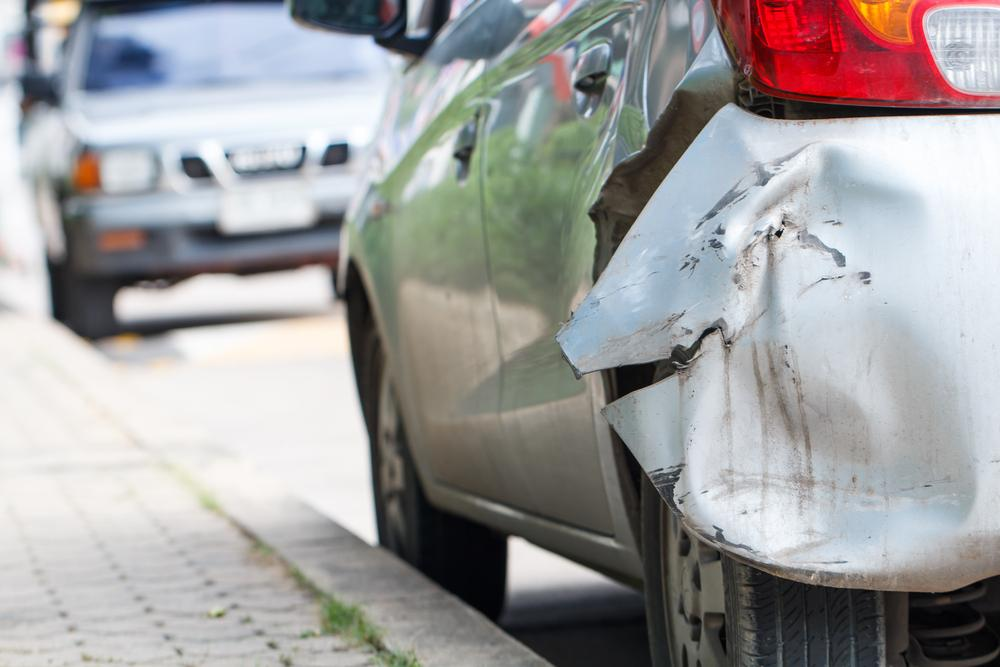crack: (578, 324, 722, 410)
dent: (682, 143, 979, 574)
